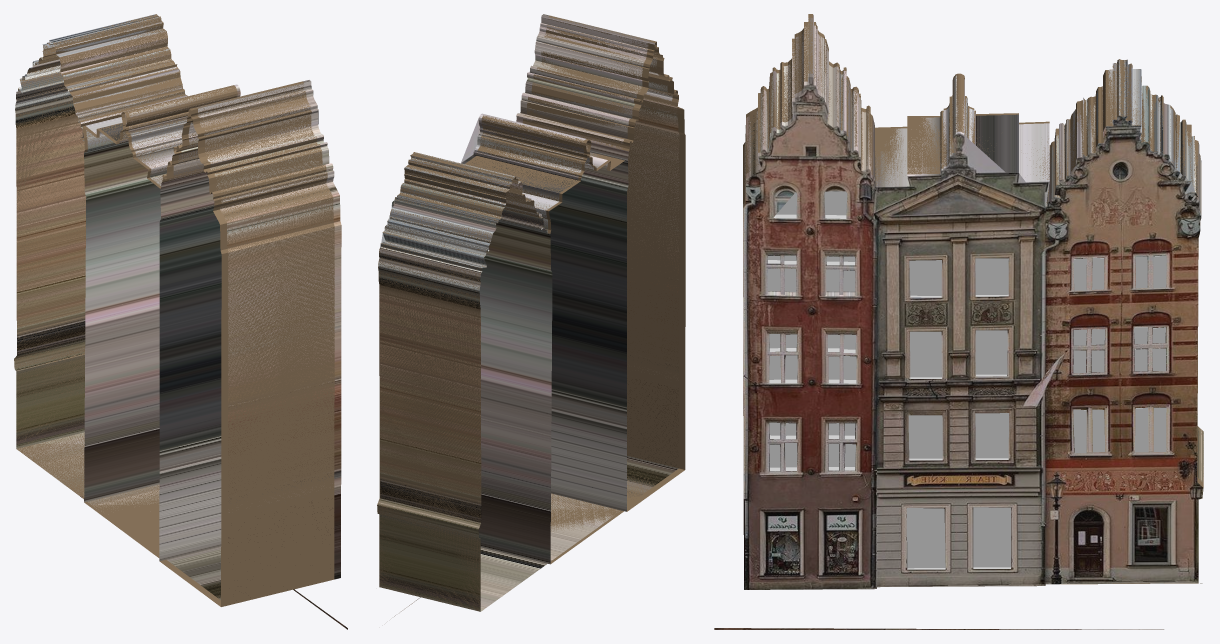
3 views of the same model, side by side, from view 1: azimuth 30°, elevation 25°; view 2: azimuth 150°, elevation 25°; view 3: azimuth 270°, elevation 25° (orthographic). The views are drawn at different scales.
Parts seen in each view (by area): view 1: ev_3; view 2: ev_3; view 3: ev_3.
Boxes of the visible parts, box(x1,y1,x2,y2) form: ev_3: box(14, 14, 347, 629); ev_3: box(377, 14, 685, 616); ev_3: box(714, 14, 1203, 629).
Size of the model in its own units: 103 by 423 by 338.
Materials: 2 (1 with a texture image).
